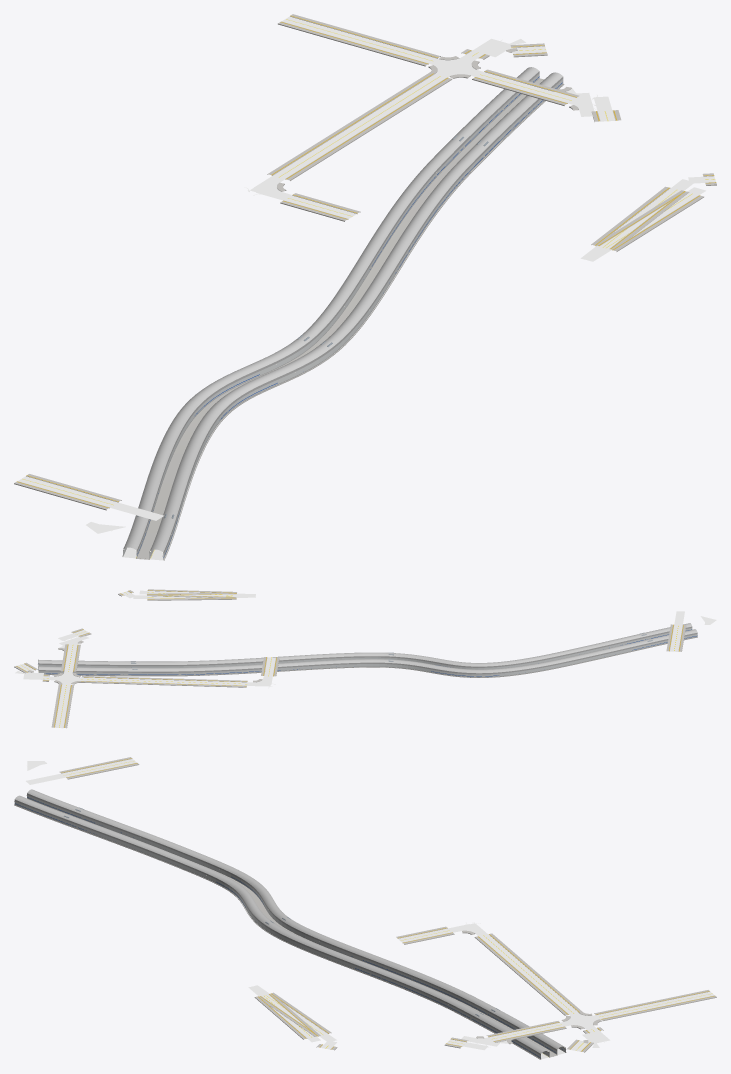
Rendered from roads_0_-1.gltf.
The picture shows the model from 3 angles, top to bottom: view 1: azimuth 30°, elevation 25°; view 2: azimuth 150°, elevation 25°; view 3: azimuth 270°, elevation 25°; orthographic projection. The views are drawn at different scales.
Visible parts, largest first — view 1: roads_0_-1_Road_Tunnel_Dark, roads_0_-1_SH_wet_asphalt, roads_0_-1_SH_sidewalk, roads_0_-1_SH_kerb, roads_0_-1_Road_Tunnel_Enamel, roads_0_-1_Road_Tactile_Strip, roads_0_-1_SH_road_marking_white; view 2: roads_0_-1_Road_Tunnel_Dark, roads_0_-1_SH_wet_asphalt, roads_0_-1_Road_Tunnel_Enamel, roads_0_-1_SH_sidewalk, roads_0_-1_SH_kerb, roads_0_-1_Road_Tactile_Strip, roads_0_-1_Road_Tunnel_Stripe, roads_0_-1_SH_road_marking_white; view 3: roads_0_-1_Road_Tunnel_Dark, roads_0_-1_SH_wet_asphalt, roads_0_-1_Road_Tunnel_Enamel, roads_0_-1_SH_sidewalk, roads_0_-1_SH_kerb, roads_0_-1_Road_Tactile_Strip, roads_0_-1_Road_Tunnel_Stripe.
Boxes of the visible parts, x1,y1,x2,y2 form: roads_0_-1_Road_Tunnel_Dark: (123, 67, 563, 559); roads_0_-1_SH_wet_asphalt: (18, 16, 715, 560); roads_0_-1_SH_sidewalk: (14, 14, 716, 510); roads_0_-1_SH_kerb: (18, 16, 715, 560); roads_0_-1_Road_Tunnel_Enamel: (123, 73, 563, 558); roads_0_-1_Road_Tactile_Strip: (16, 15, 716, 507); roads_0_-1_SH_road_marking_white: (27, 17, 711, 559); roads_0_-1_Road_Tunnel_Dark: (38, 623, 697, 677); roads_0_-1_SH_wet_asphalt: (15, 590, 716, 728); roads_0_-1_Road_Tunnel_Enamel: (38, 628, 697, 676); roads_0_-1_SH_sidewalk: (14, 589, 686, 728); roads_0_-1_SH_kerb: (17, 590, 697, 727); roads_0_-1_Road_Tactile_Strip: (16, 590, 683, 727); roads_0_-1_Road_Tunnel_Stripe: (46, 629, 697, 676); roads_0_-1_SH_road_marking_white: (18, 591, 711, 727); roads_0_-1_Road_Tunnel_Dark: (14, 789, 565, 1058); roads_0_-1_SH_wet_asphalt: (26, 759, 714, 1059); roads_0_-1_Road_Tunnel_Enamel: (14, 795, 565, 1058); roads_0_-1_SH_sidewalk: (59, 757, 716, 1052); roads_0_-1_SH_kerb: (14, 758, 713, 1059); roads_0_-1_Road_Tactile_Strip: (61, 758, 714, 1051); roads_0_-1_Road_Tunnel_Stripe: (15, 797, 562, 1057).
Size of what is drawn, in the model's own units: 527 by 28.45 by 530.
